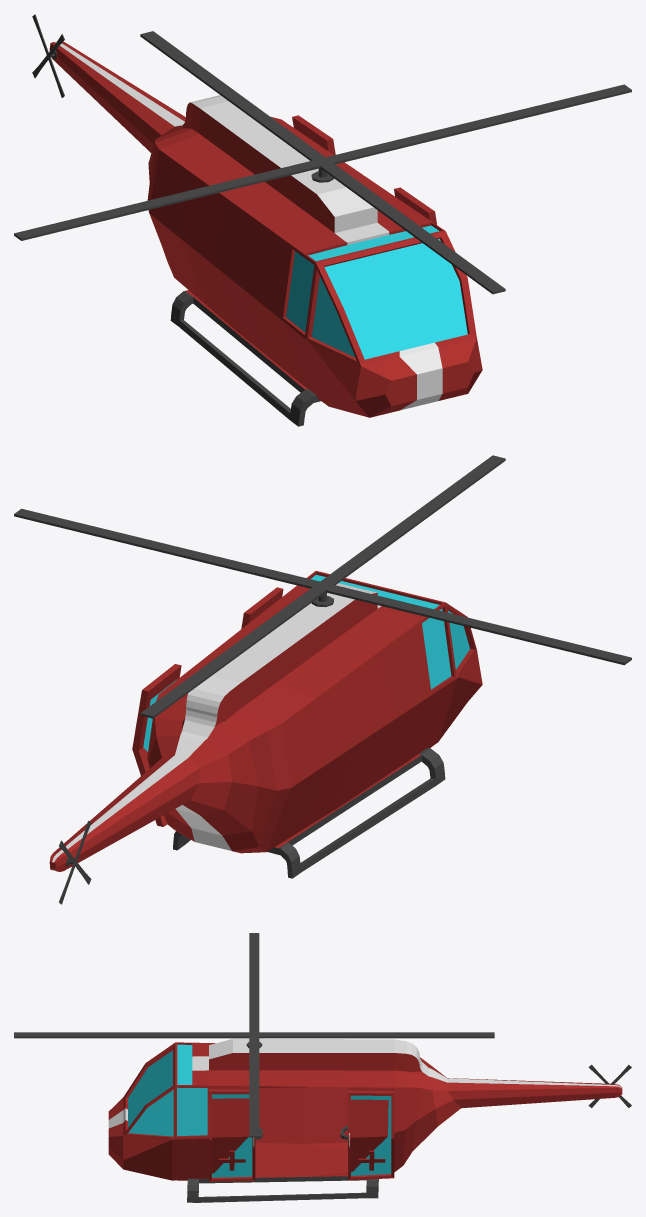
The model's file is helicopter.fbx.
3 views of the same model, one above another, from view 1: azimuth 30°, elevation 25°; view 2: azimuth 150°, elevation 25°; view 3: azimuth 270°, elevation 25° (orthographic). The views are drawn at different scales.
Visible parts, largest first — view 1: Cube, Cube.002, Cube.001, Cube.006, Cube.019; view 2: Cube, Cube.002, Cube.001, Cube.006, Cube.019; view 3: Cube, Cube.006, Cube.019, Cube.012, Cube.001, Cube.002.
Boxes of the visible parts, box(x1,y1,x2,y2) form: Cube: box(49, 41, 482, 417); Cube.002: box(14, 84, 631, 240); Cube.001: box(140, 31, 505, 294); Cube.006: box(170, 290, 320, 426); Cube.019: box(292, 115, 335, 155); Cube: box(49, 571, 482, 871); Cube.002: box(14, 508, 631, 665); Cube.001: box(140, 455, 505, 718); Cube.006: box(173, 747, 445, 878); Cube.019: box(132, 664, 181, 826); Cube: box(108, 1038, 622, 1180); Cube.006: box(187, 1143, 378, 1202); Cube.019: box(348, 1090, 394, 1180); Cube.012: box(209, 1089, 255, 1181); Cube.001: box(14, 1032, 494, 1038); Cube.002: box(249, 933, 259, 1137).
Bounding box in the file's own units: 539 × 178 × 693.
